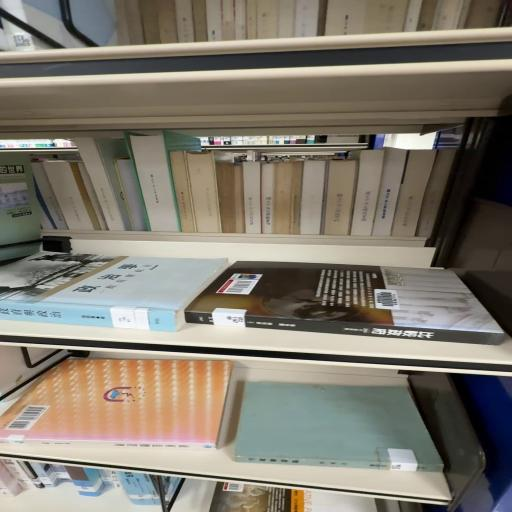flat: (186, 262, 506, 346), (1, 360, 233, 452), (235, 383, 444, 473), (1, 252, 230, 332)
